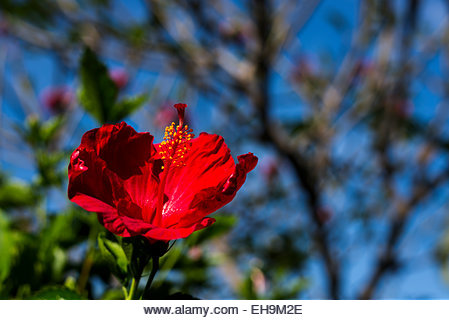Hibiscus: (66, 103, 262, 287)
